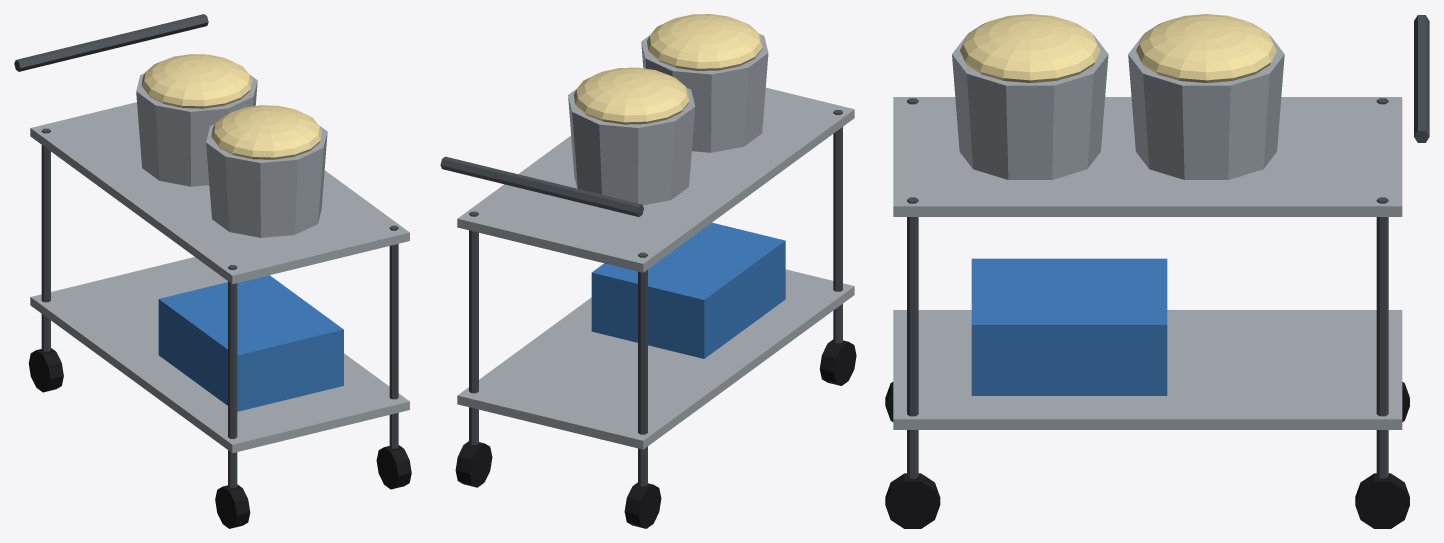
Rendered from food_cart.glb.
The picture shows the model from 3 angles, left to right: view 1: azimuth 30°, elevation 25°; view 2: azimuth 150°, elevation 25°; view 3: azimuth 270°, elevation 25°; orthographic projection. The views are drawn at different scales.
Parts seen in each view (by area): view 1: frame_cart_steel, food_yogurt_crate, food_pot_steel, food_mash, frame_canteen_leg, wheels_tire; view 2: frame_cart_steel, food_yogurt_crate, food_pot_steel, food_mash, frame_canteen_leg, wheels_tire; view 3: frame_cart_steel, food_pot_steel, food_yogurt_crate, food_mash, frame_canteen_leg, wheels_tire.
Boxes of the visible parts, bbox=[...] form: frame_cart_steel: bbox=[30, 102, 409, 453]; food_yogurt_crate: bbox=[158, 275, 343, 411]; food_pot_steel: bbox=[136, 73, 327, 237]; food_mash: bbox=[141, 54, 322, 159]; frame_canteen_leg: bbox=[14, 14, 398, 487]; wheels_tire: bbox=[28, 348, 411, 528]; frame_cart_steel: bbox=[457, 87, 854, 449]; food_yogurt_crate: bbox=[591, 222, 785, 358]; food_pot_steel: bbox=[568, 34, 768, 205]; food_mash: bbox=[573, 14, 762, 124]; frame_canteen_leg: bbox=[440, 110, 842, 486]; wheels_tire: bbox=[455, 339, 856, 528]; frame_cart_steel: bbox=[893, 97, 1402, 429]; food_pot_steel: bbox=[952, 34, 1284, 179]; food_yogurt_crate: bbox=[971, 258, 1167, 395]; food_mash: bbox=[960, 14, 1276, 82]; frame_canteen_leg: bbox=[907, 15, 1429, 478]; wheels_tire: bbox=[885, 382, 1409, 528].
Bounding box in the file's own units: 0.7 × 1.26 × 1.39.
